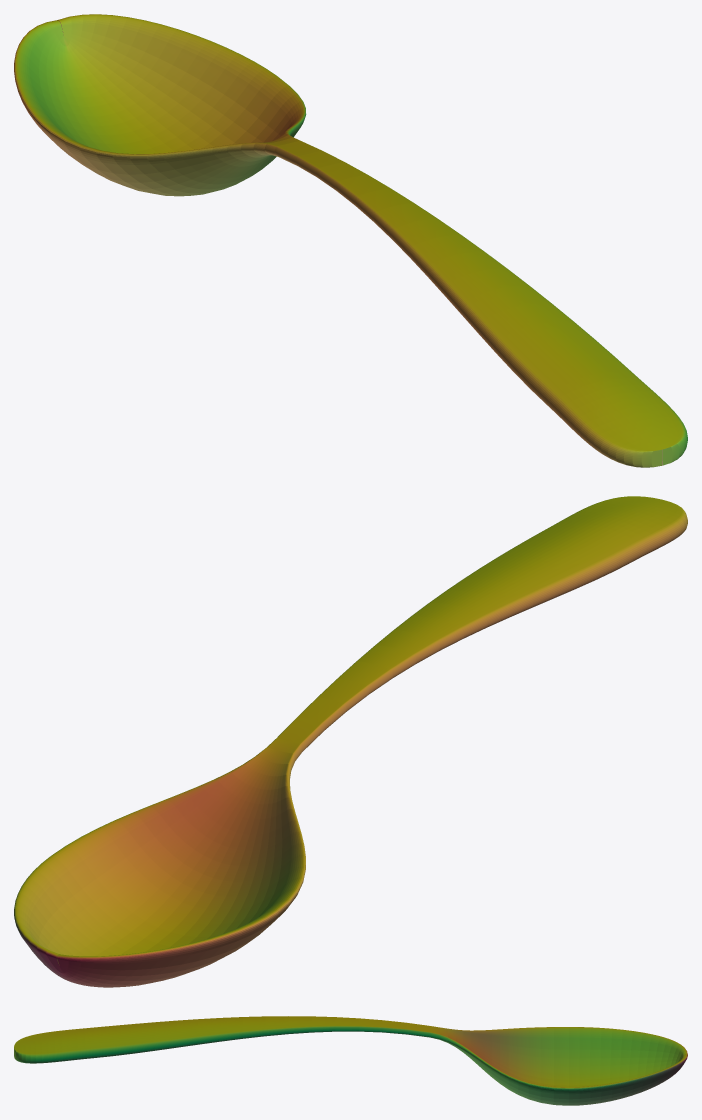
Rendered from Spoon.fbx.
3 renders of one model, top to bottom at view 1: azimuth 30°, elevation 25°; view 2: azimuth 150°, elevation 25°; view 3: azimuth 270°, elevation 25°, orthographic. The views are drawn at different scales.
Parts seen in each view (by area): view 1: Spoon; view 2: Spoon; view 3: Spoon.
Part boxes in pixels (x1,y1,x2,y2): Spoon: [14, 14, 687, 467]; Spoon: [14, 496, 687, 987]; Spoon: [14, 1016, 687, 1105].
Bounding box in the file's own units: 26.4 × 15.5 × 121.
